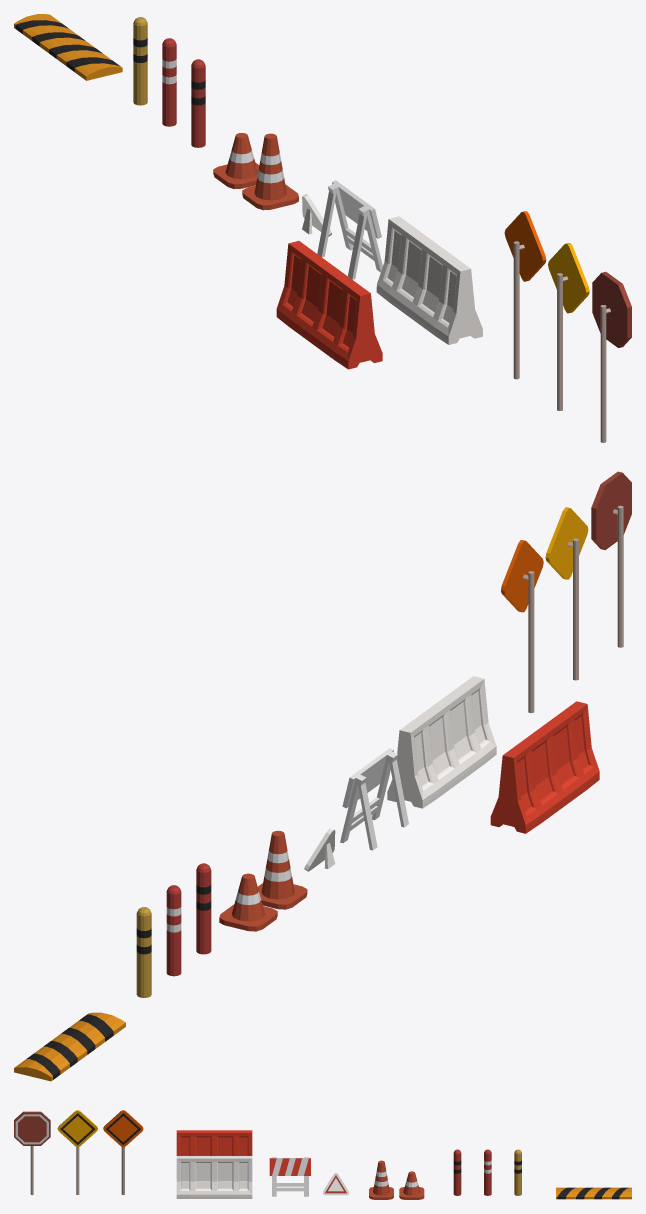
Rendered from road blockers.fbx.
The picture shows the model from 3 angles, top to bottom: view 1: azimuth 30°, elevation 25°; view 2: azimuth 150°, elevation 25°; view 3: azimuth 270°, elevation 25°; orthographic projection. The views are drawn at different scales.
Parts seen in each view (by area): view 1: BarriersRed, BarriersWhite, SpeedBump, WarningSign, SignStop, Sign.001, Sign, ConeBig, ConeSmall, PillarOrange, PillarRed, PillarYellow (+1 smaller); view 2: BarriersRed, BarriersWhite, SpeedBump, WarningSign, SignStop, Sign.001, Sign, ConeBig, ConeSmall, PillarOrange, PillarRed, PillarYellow; view 3: BarriersWhite, BarriersRed, SignStop, WarningSign, Sign.001, Sign, SpeedBump, ConeBig, ConeSmall, PillarOrange, Triangle, PillarRed (+1 smaller).
Boxes of the visible parts, x1,y1,x2,y2 form: BarriersRed: [276, 241, 382, 369]; BarriersWhite: [376, 216, 482, 344]; SpeedBump: [14, 14, 122, 80]; WarningSign: [317, 180, 382, 279]; SignStop: [592, 271, 631, 442]; Sign.001: [504, 211, 546, 379]; Sign: [548, 243, 589, 410]; ConeBig: [242, 133, 298, 210]; ConeSmall: [213, 133, 259, 189]; PillarOrange: [191, 59, 205, 147]; PillarRed: [162, 38, 176, 126]; PillarYellow: [133, 17, 147, 105]; BarriersRed: [490, 701, 599, 833]; BarriersWhite: [387, 676, 496, 808]; SpeedBump: [14, 1012, 125, 1081]; WarningSign: [340, 748, 408, 850]; SignStop: [591, 471, 631, 647]; Sign.001: [501, 540, 543, 713]; Sign: [545, 507, 588, 680]; ConeBig: [258, 830, 307, 909]; ConeSmall: [219, 873, 277, 931]; PillarOrange: [196, 863, 211, 954]; PillarRed: [166, 885, 181, 976]; PillarYellow: [136, 907, 151, 997]; BarriersWhite: [176, 1156, 252, 1198]; BarriersRed: [176, 1130, 252, 1155]; SignStop: [14, 1111, 50, 1194]; WarningSign: [269, 1157, 310, 1196]; Sign.001: [103, 1110, 143, 1194]; Sign: [57, 1110, 97, 1194]; SpeedBump: [556, 1187, 631, 1199]; ConeBig: [369, 1160, 393, 1199]; ConeSmall: [399, 1171, 424, 1199]; PillarOrange: [453, 1149, 461, 1195]; Triangle: [323, 1173, 348, 1195]; PillarRed: [484, 1149, 491, 1195].
Size of the model in its own units: 554 by 628 by 4070.
